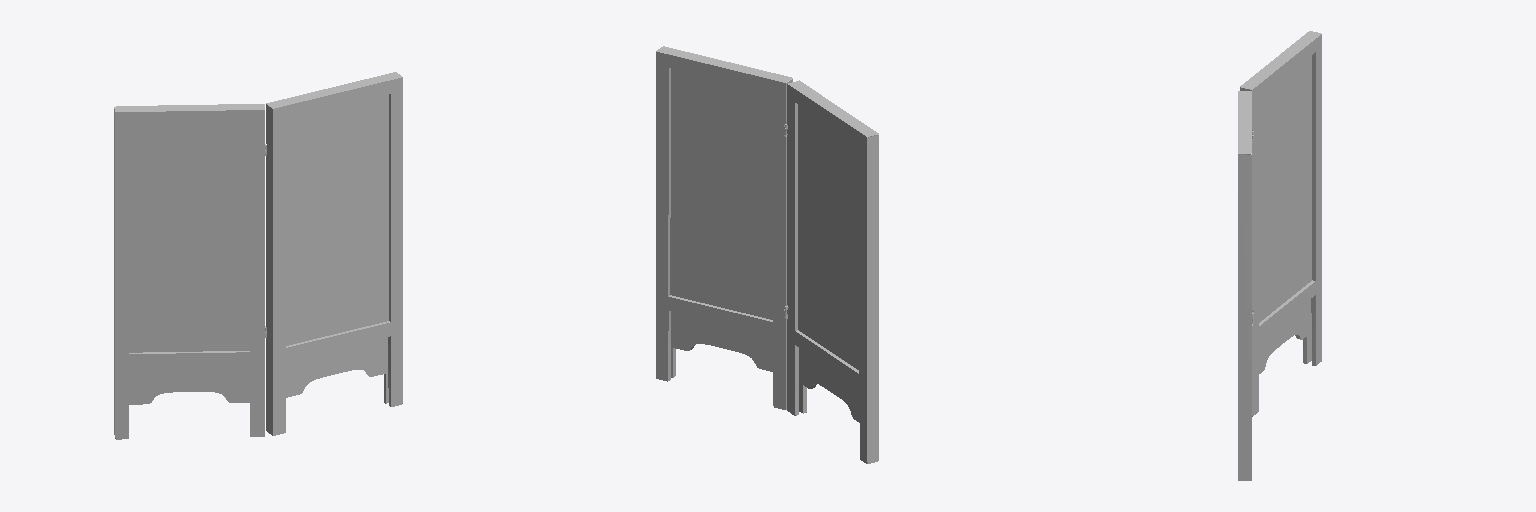
Rendered from chinese_screen_panels_4k.obj.
3 views of the same model, side by side, from view 1: azimuth 30°, elevation 25°; view 2: azimuth 150°, elevation 25°; view 3: azimuth 270°, elevation 25° (orthographic).
Visible parts, largest first — view 1: chinese_screen_panels_b, chinese_screen_panels_a; view 2: chinese_screen_panels_a, chinese_screen_panels_b; view 3: chinese_screen_panels_b, chinese_screen_panels_a.
Part boxes in pixels (x1,y1,x2,y2): chinese_screen_panels_b: (114, 104, 266, 439); chinese_screen_panels_a: (265, 72, 402, 435); chinese_screen_panels_a: (656, 46, 792, 409); chinese_screen_panels_b: (785, 80, 878, 463); chinese_screen_panels_b: (1240, 31, 1321, 416); chinese_screen_panels_a: (1238, 91, 1253, 480).
Size of the model in its own units: 1.29 by 1.6 by 0.3769.